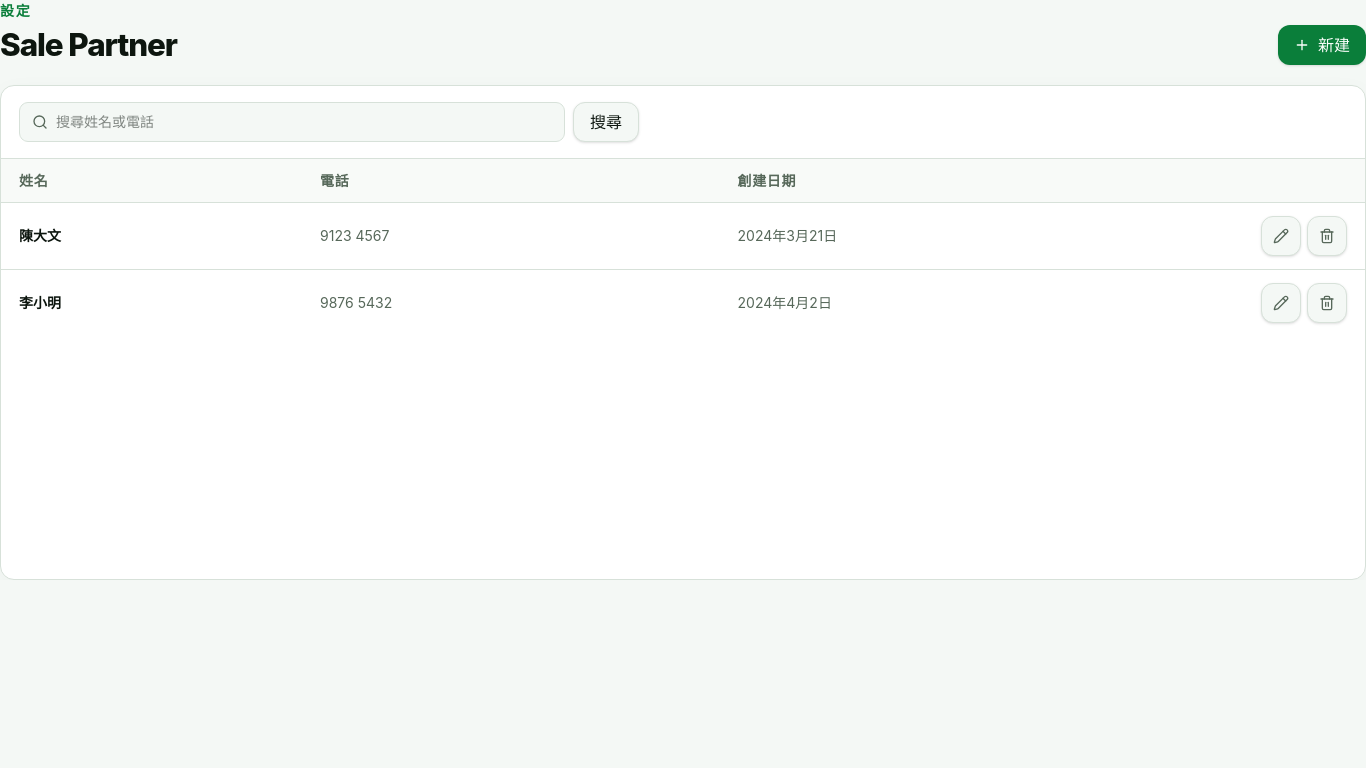
Test: Sale Partner page › opens the edit panel and updates a partner
Expected: the text "陳大文" is shown, [19,227,61,244]
Click the button named "編輯" in the row of "陳大文" at (1281, 236), box [1261,216,1301,256]
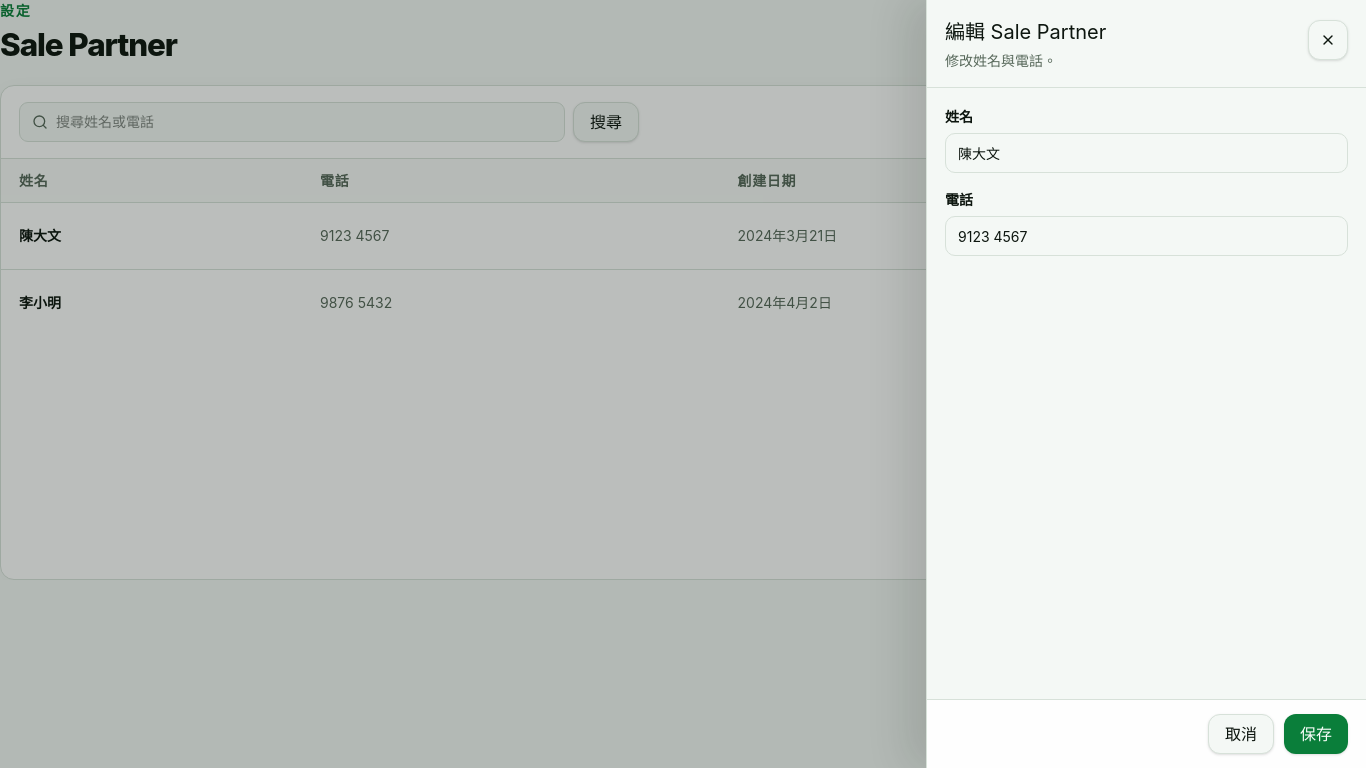
Expected: the dialog "編輯 Sale Partner" is shown, [926,0,1365,767]
Expected: the field with placeholder "輸入姓名" holds "陳大文"
Expected: the field with placeholder "輸入電話" holds "9123 4567", [945,216,1348,256]
Replace the text in the field with placeholder "輸入姓名" with "陳大文改" at (1146, 153), box [945,133,1348,173]
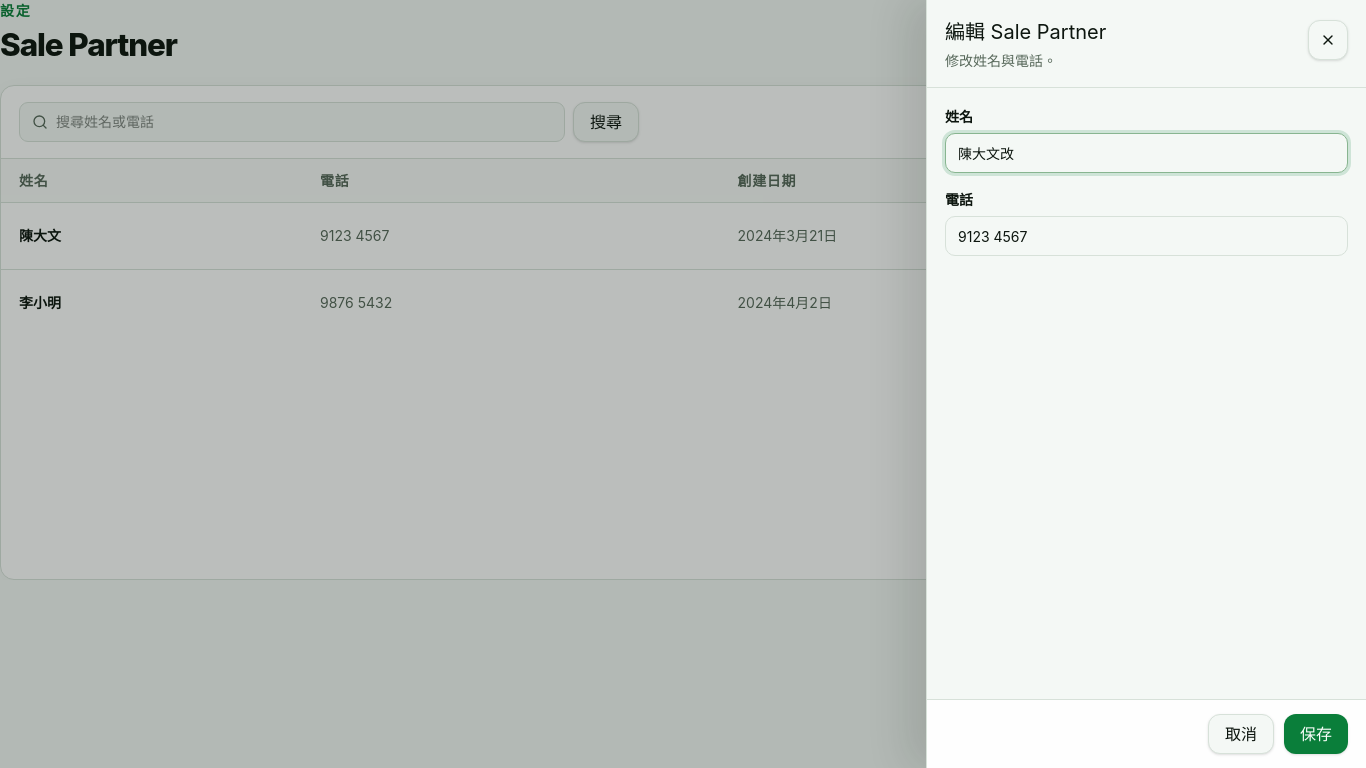
Replace the text in the field with placeholder "輸入電話" with "9000 0000" at (1146, 236), box [945,216,1348,256]
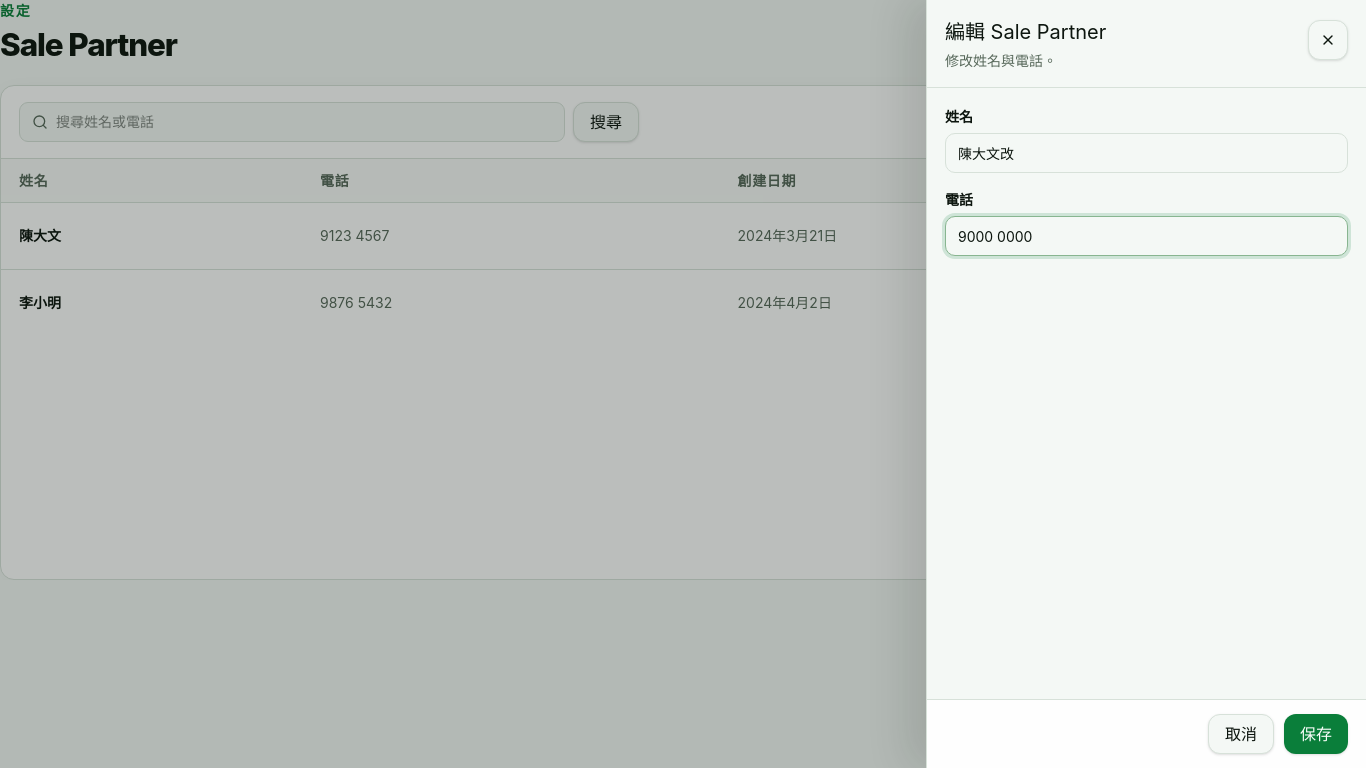
Click the button "保存" at (1316, 734), box [1284,714,1348,754]
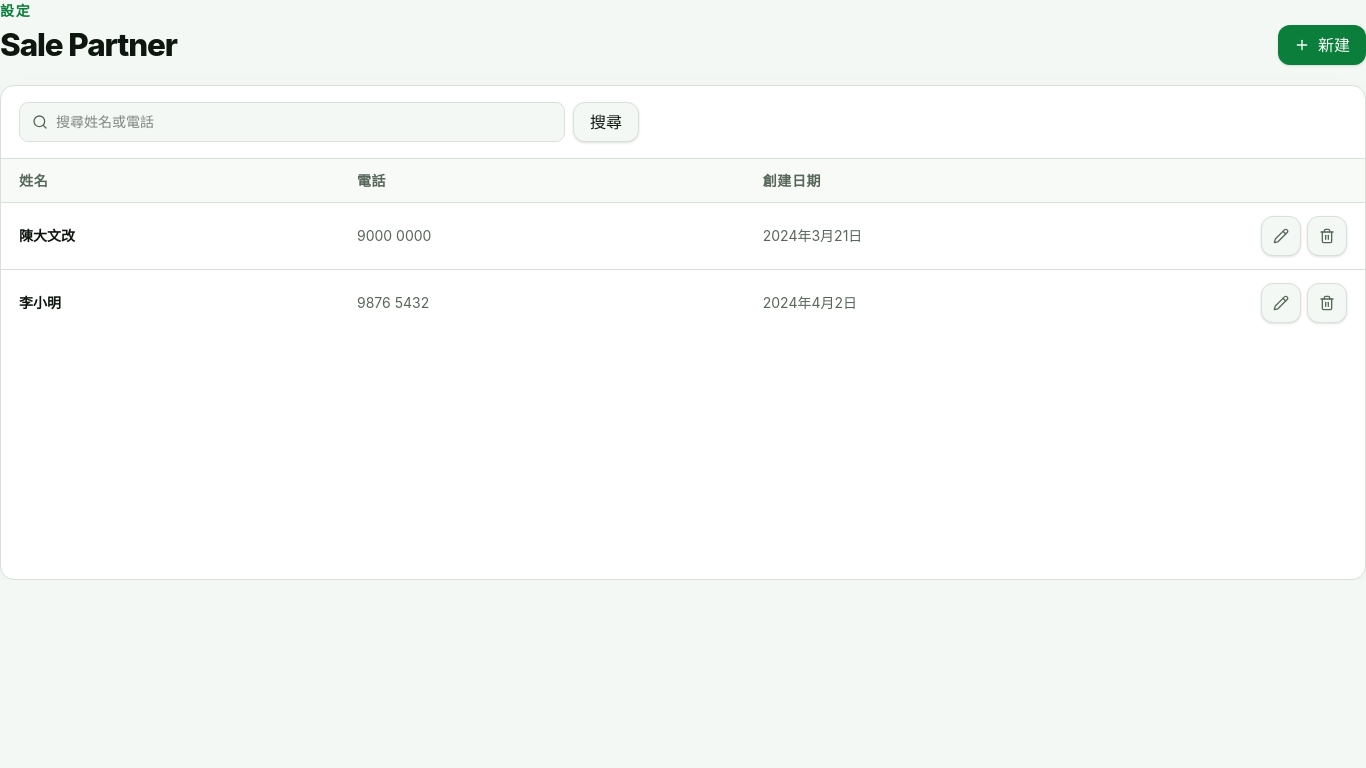
Expected: the text "李小明" is shown, [19,294,61,311]
Expected: the text "陳大文改" is shown, [19,227,75,244]
